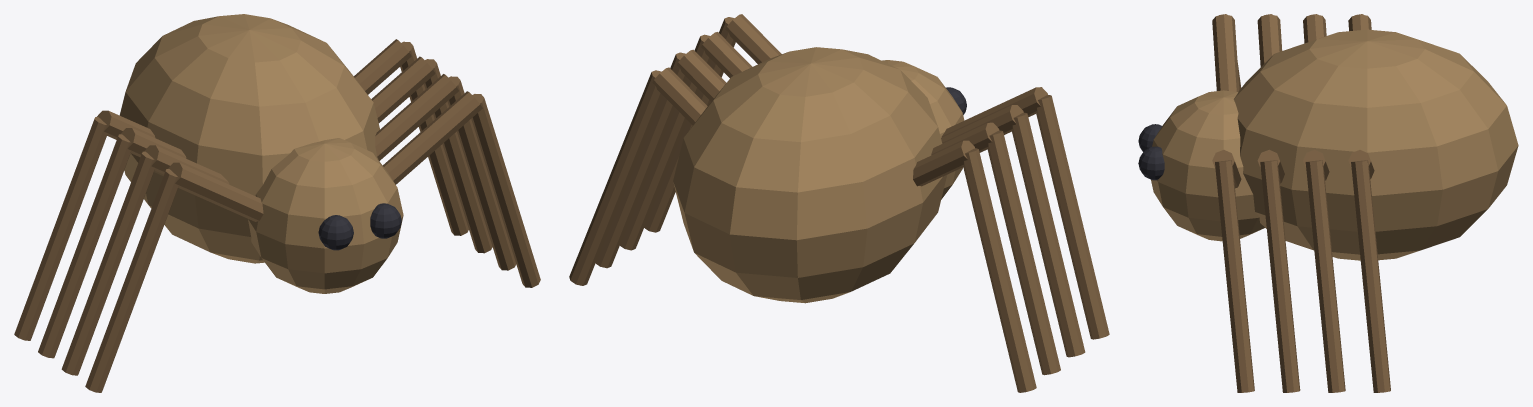
The model's file is creature_spider_brown.glb.
3 views of the same model, side by side, from view 1: azimuth 30°, elevation 25°; view 2: azimuth 150°, elevation 25°; view 3: azimuth 270°, elevation 25° (orthographic). The views are drawn at different scales.
Visible parts, largest first — view 1: creature_spider_brown; view 2: creature_spider_brown; view 3: creature_spider_brown.
Boxes of the visible parts, x1,y1,x2,y2 form: creature_spider_brown: (14,14,540,392); creature_spider_brown: (569,14,1109,392); creature_spider_brown: (1138,14,1518,392).
Size of the model in its own units: 1.81 by 1 by 1.37.
